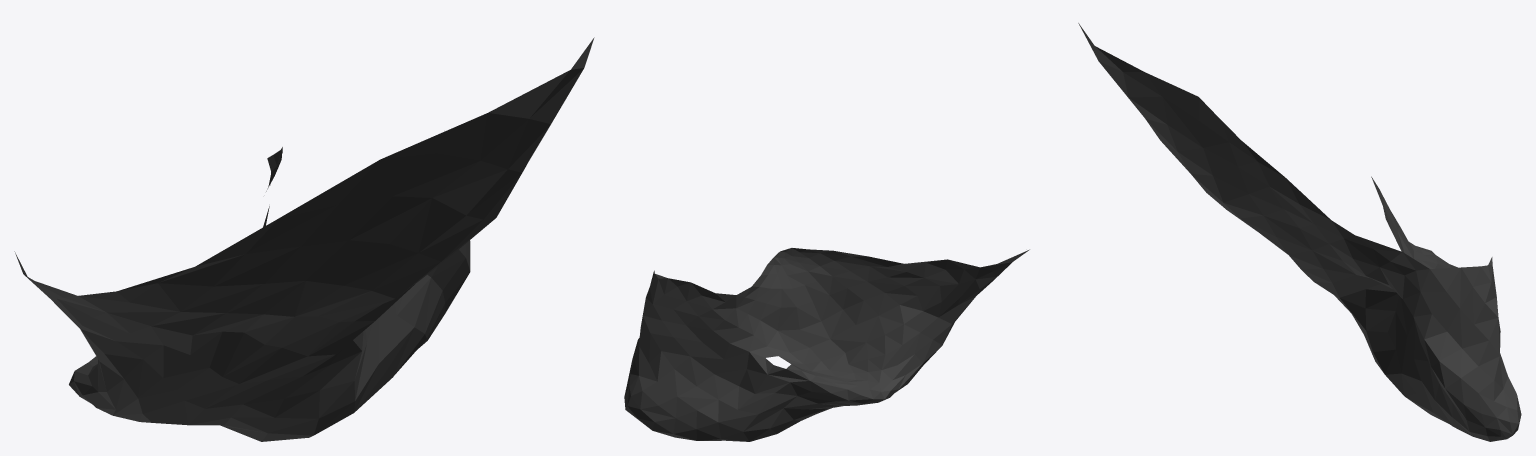
Rendered from ligament_lateral_patellar_cut_e.glb.
The picture shows the model from 3 angles, left to right: view 1: azimuth 30°, elevation 25°; view 2: azimuth 150°, elevation 25°; view 3: azimuth 270°, elevation 25°; orthographic projection. The views are drawn at different scales.
Parts seen in each view (by area): view 1: ligament_lateral_patellar_cut_e; view 2: ligament_lateral_patellar_cut_e; view 3: ligament_lateral_patellar_cut_e.
Part boxes in pixels (left/top/right/bottom): ligament_lateral_patellar_cut_e: left=14, top=37, right=594, bottom=441; ligament_lateral_patellar_cut_e: left=624, top=248, right=1029, bottom=441; ligament_lateral_patellar_cut_e: left=1078, top=23, right=1521, bottom=441.
Size of the model in its own units: 0.00148 by 0.00138 by 0.0015.
Materials: 1 (1 with a texture image).
